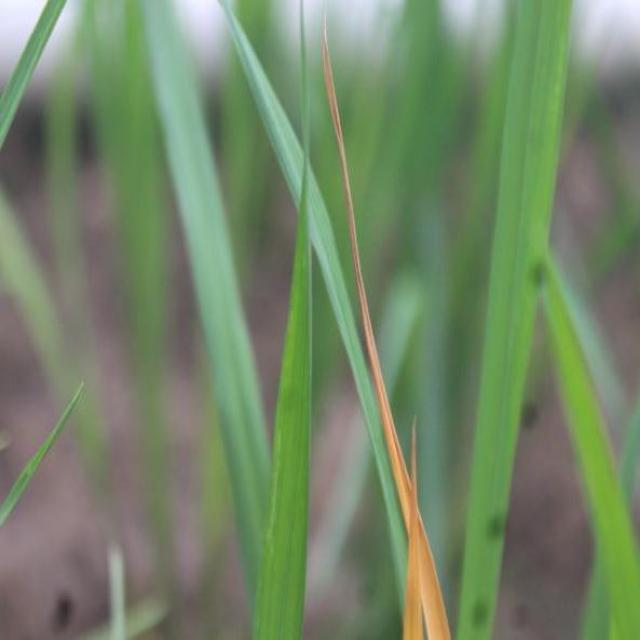Tungro: (314, 7, 468, 640)
